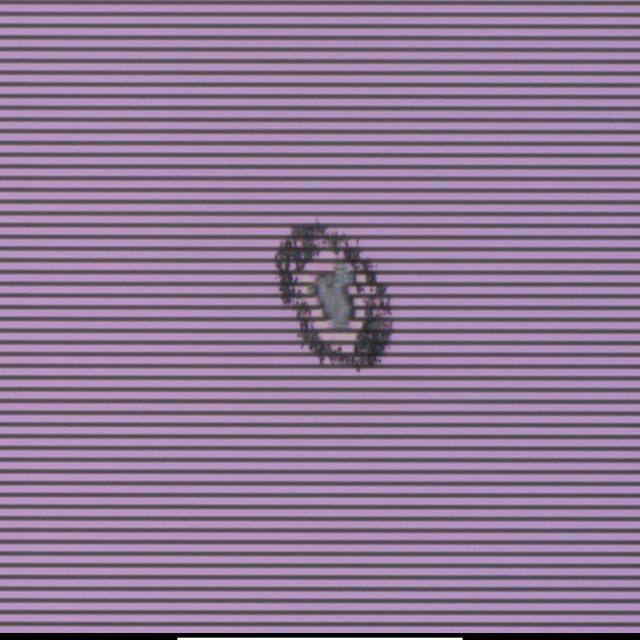03_intrusion: (264, 205, 401, 378)
